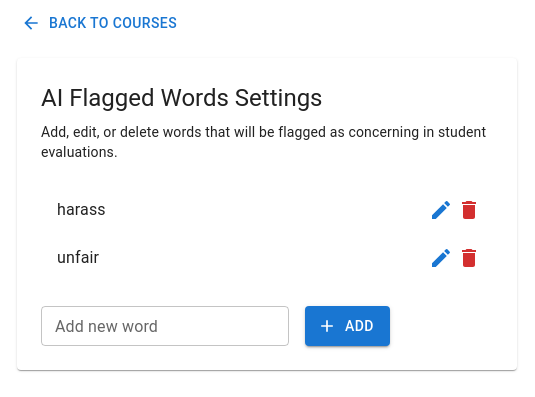
Test case: Settings: flagged words › cancelling an edit sends nothing and keeps the word
The width and height of the screenshot is (535, 397).
Check: the text "unfair" is shown, box x1=57 y1=248 x2=99 y2=267
Click the 4th button: (441, 258) x1=421 y1=238 x2=461 y2=278
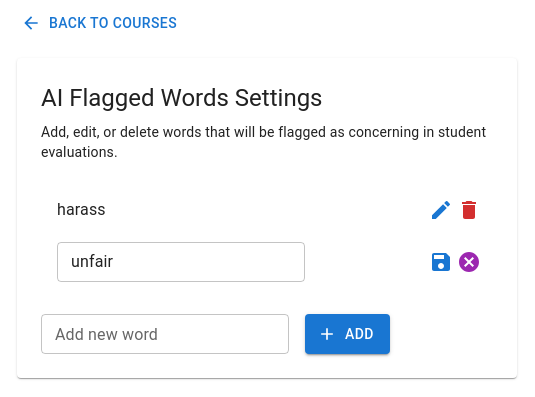
Click the 5th button: (469, 262) x1=449 y1=242 x2=489 y2=282
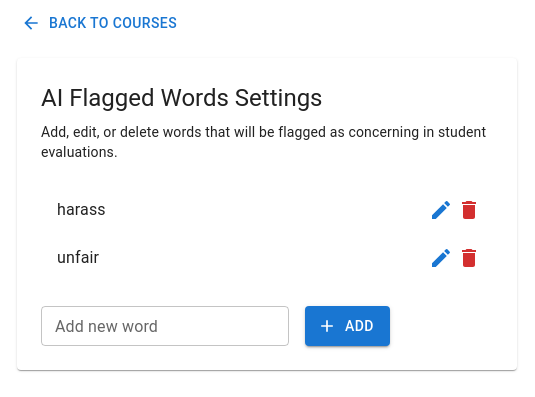
Check: the text "unfair" is shown, box x1=57 y1=248 x2=99 y2=267
